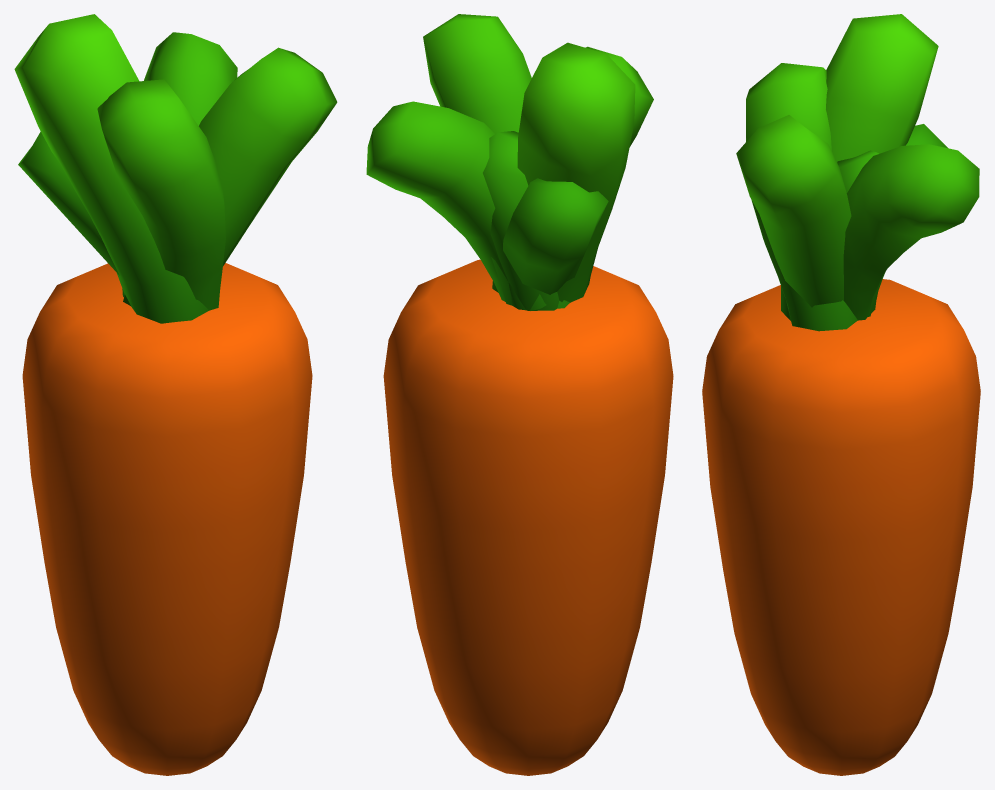
The model's file is Farm_Crop_Carrot_01.fbx.
3 views of the same model, side by side, from view 1: azimuth 30°, elevation 25°; view 2: azimuth 150°, elevation 25°; view 3: azimuth 270°, elevation 25° (orthographic). The views are drawn at different scales.
Visible parts, largest first — view 1: Farm_Crop_Carrot_01; view 2: Farm_Crop_Carrot_01; view 3: Farm_Crop_Carrot_01.
Part boxes in pixels (left/top/right/bottom): Farm_Crop_Carrot_01: left=14, top=14, right=337, bottom=775; Farm_Crop_Carrot_01: left=366, top=14, right=673, bottom=775; Farm_Crop_Carrot_01: left=702, top=14, right=980, bottom=775.
Size of the model in its own units: 49.71 by 137 by 48.63.
